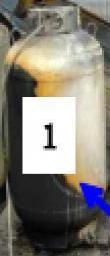cylinder: (1, 1, 110, 256)
